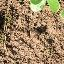Purslane: (15, 0, 64, 20)
